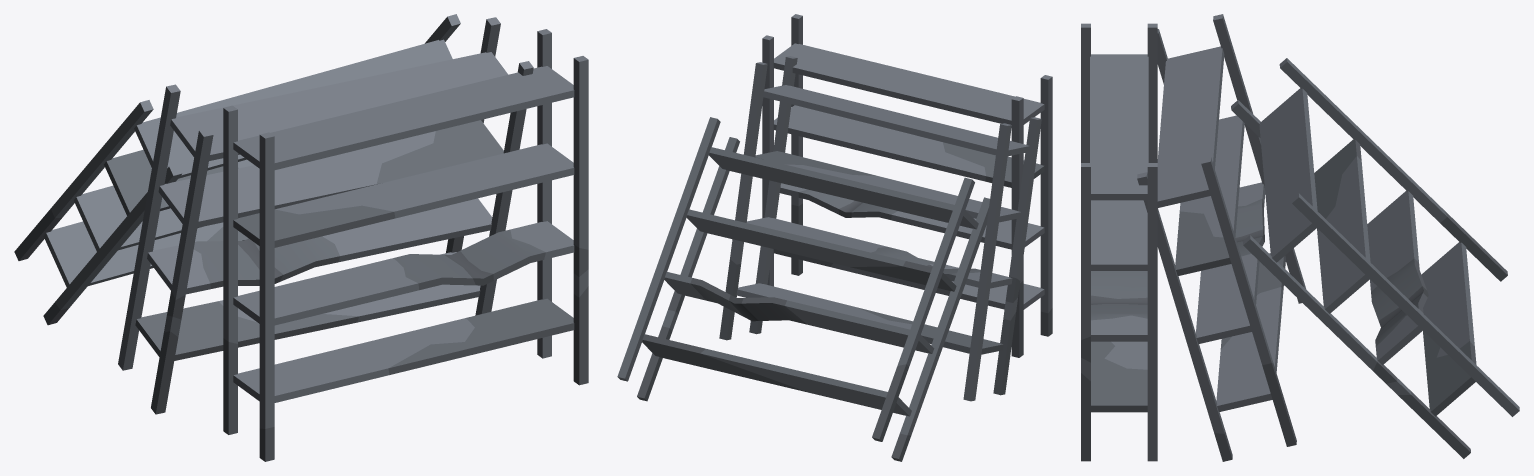
The model's file is AI_Prop_Shelf_01_Broken.fbx.
3 renders of one model, left to right at view 1: azimuth 30°, elevation 25°; view 2: azimuth 150°, elevation 25°; view 3: azimuth 270°, elevation 25°, orthographic. The views are drawn at different scales.
Parts seen in each view (by area): view 1: AI_Prop_Shelf_01_Broken; view 2: AI_Prop_Shelf_01_Broken; view 3: AI_Prop_Shelf_01_Broken.
Boxes of the visible parts, left/top/right/bottom form: AI_Prop_Shelf_01_Broken: left=14, top=14, right=588, bottom=461; AI_Prop_Shelf_01_Broken: left=617, top=14, right=1052, bottom=461; AI_Prop_Shelf_01_Broken: left=1081, top=14, right=1519, bottom=461.
Size of the model in its own units: 3.52 by 3.25 by 4.22.
